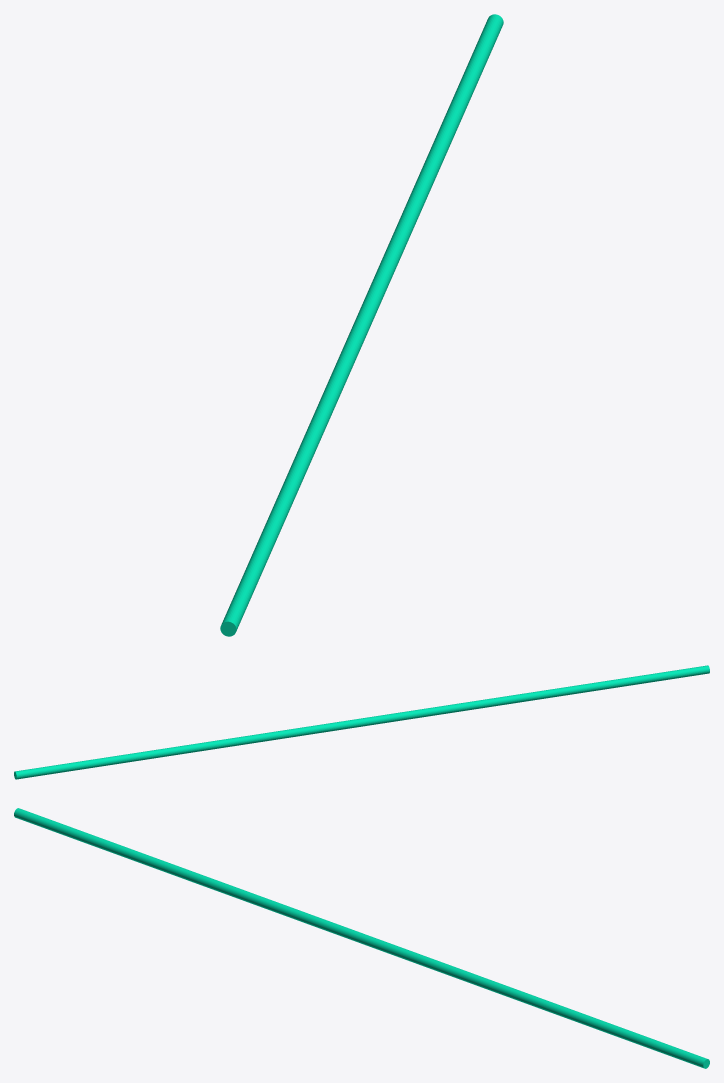
3 views of the same model, one above another, from view 1: azimuth 30°, elevation 25°; view 2: azimuth 150°, elevation 25°; view 3: azimuth 270°, elevation 25° (orthographic). The views are drawn at different scales.
Parts seen in each view (by area): view 1: Циліндр.003; view 2: Циліндр.003; view 3: Циліндр.003.
Part boxes in pixels (box(x1,y1,x2,y2)): Циліндр.003: box(220, 14, 503, 636); Циліндр.003: box(14, 665, 709, 779); Циліндр.003: box(14, 808, 709, 1068).
Size of the model in its own units: 6.59 by 0.1436 by 7.71.
